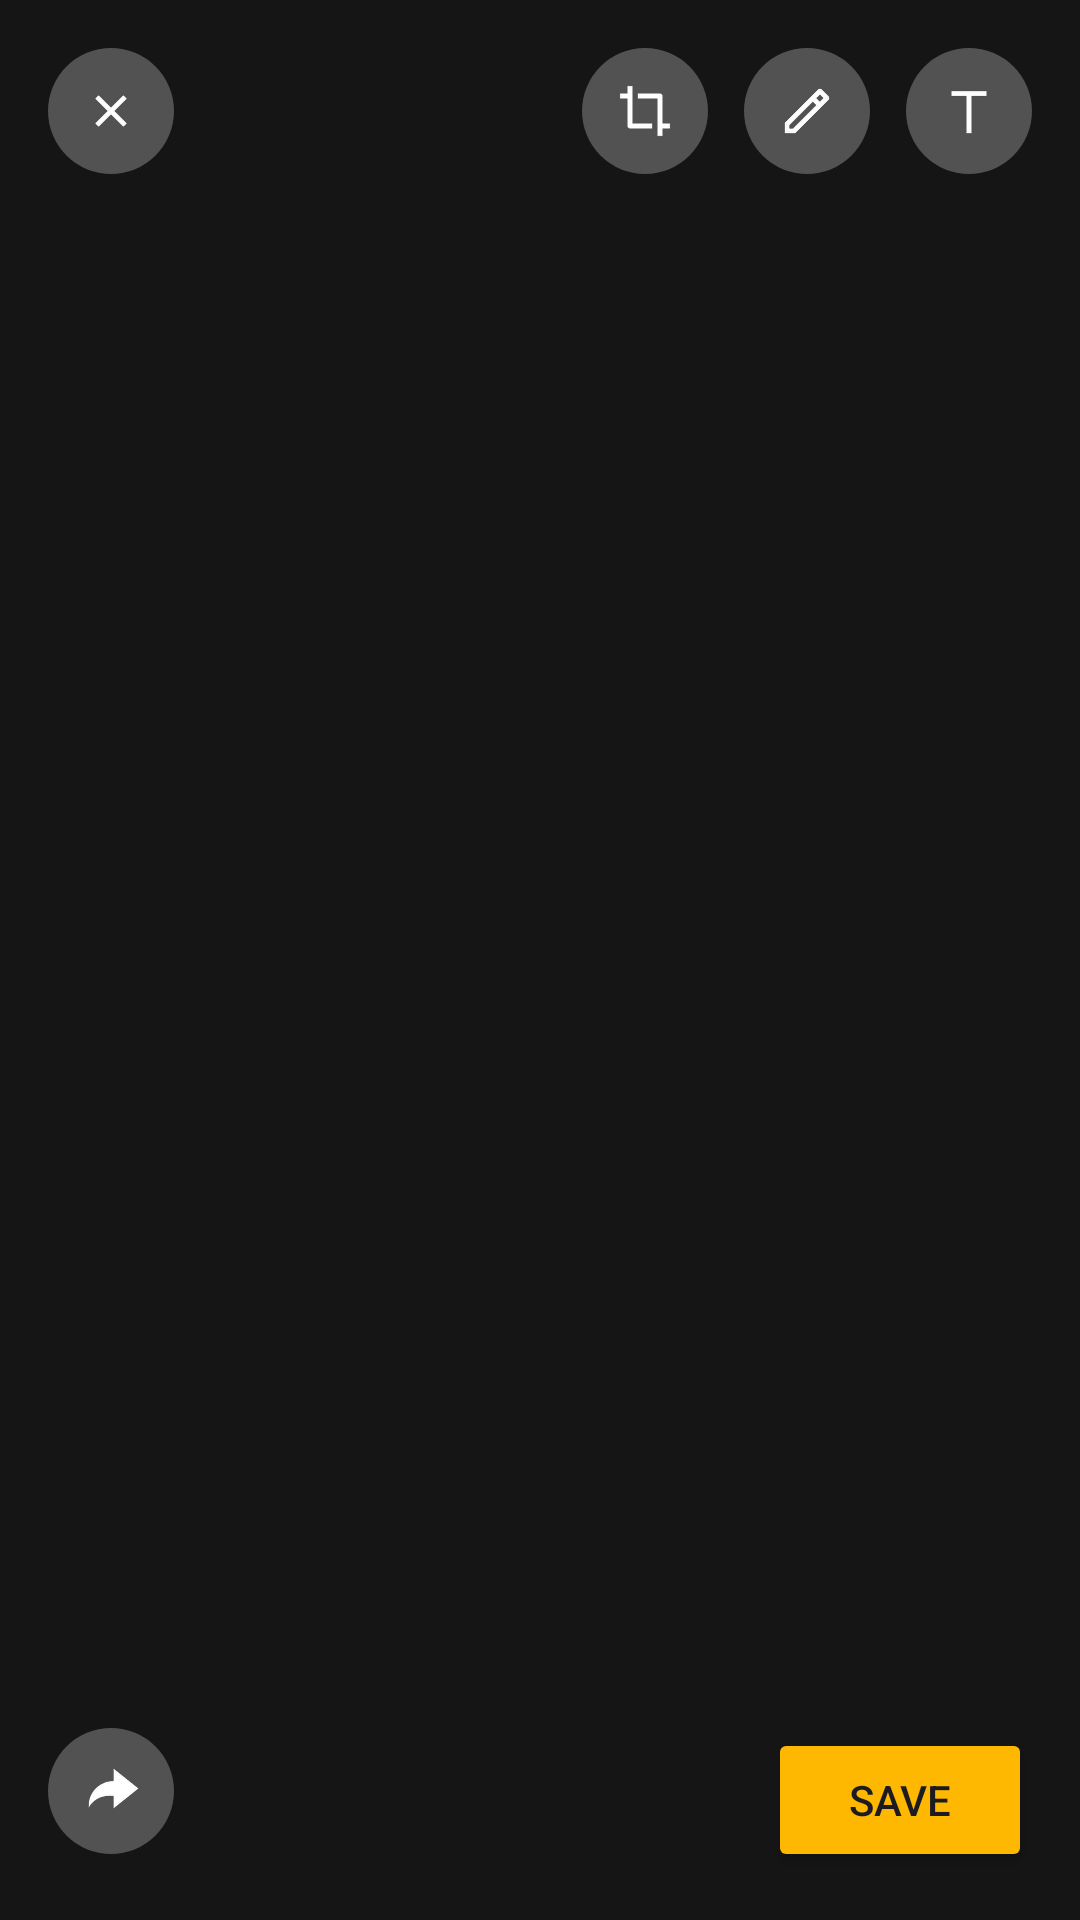

Screen size 1080x1920. Icon name, then its box in pixels as (x1,y1,x2,y2):
Close: (48,48,174,174)
Crop: (582,48,708,174)
Draw: (744,48,870,174)
Share: (48,1728,174,1854)
text: (906,48,1032,174)
